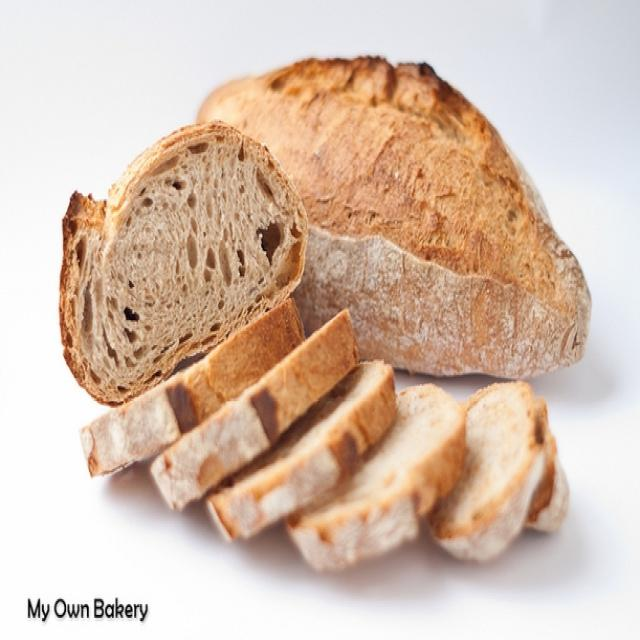面包点心: (5, 12, 630, 614)
